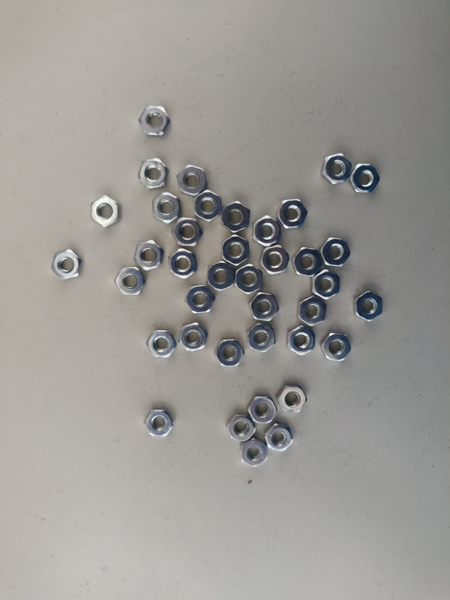nut: (192, 190, 223, 224), (350, 163, 382, 195), (321, 331, 353, 363), (139, 106, 171, 137), (323, 152, 354, 184), (252, 214, 283, 246), (277, 384, 308, 416), (53, 248, 83, 281), (261, 243, 291, 276), (176, 164, 207, 195), (91, 195, 121, 227), (115, 266, 145, 298), (135, 240, 165, 272), (169, 248, 199, 280), (173, 217, 203, 249), (152, 193, 182, 225), (222, 201, 252, 233), (294, 247, 324, 279), (311, 269, 341, 301), (321, 237, 351, 268), (279, 198, 309, 229), (356, 290, 386, 320), (139, 159, 169, 189), (226, 413, 256, 443), (239, 439, 269, 469), (265, 424, 295, 454), (248, 397, 278, 427), (148, 329, 178, 359), (215, 338, 245, 368), (180, 322, 210, 352), (186, 284, 216, 314), (297, 296, 327, 326), (250, 292, 280, 322), (234, 265, 264, 295), (208, 261, 238, 291), (145, 409, 174, 439), (247, 324, 277, 353), (289, 326, 318, 356), (222, 234, 251, 264)
